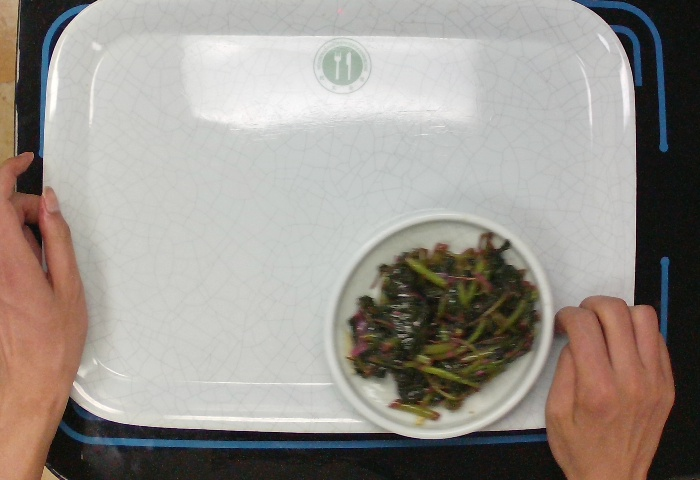JYsf-Xiao_Yuan_Pan: (318, 206, 559, 445)
